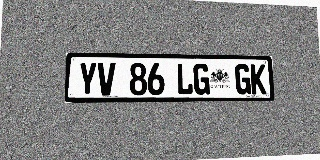6: (147, 63, 165, 95)
8: (129, 63, 147, 95)
G: (193, 63, 210, 95), (235, 64, 251, 94)
K: (250, 64, 266, 94)
L: (176, 63, 193, 95)
V: (97, 62, 115, 96)
Y: (78, 62, 97, 96)
